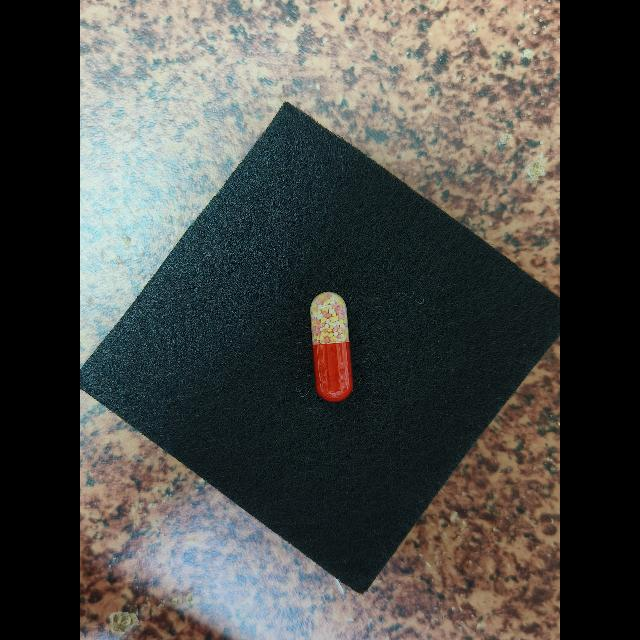Intact Capsule: (310, 292, 353, 402)
